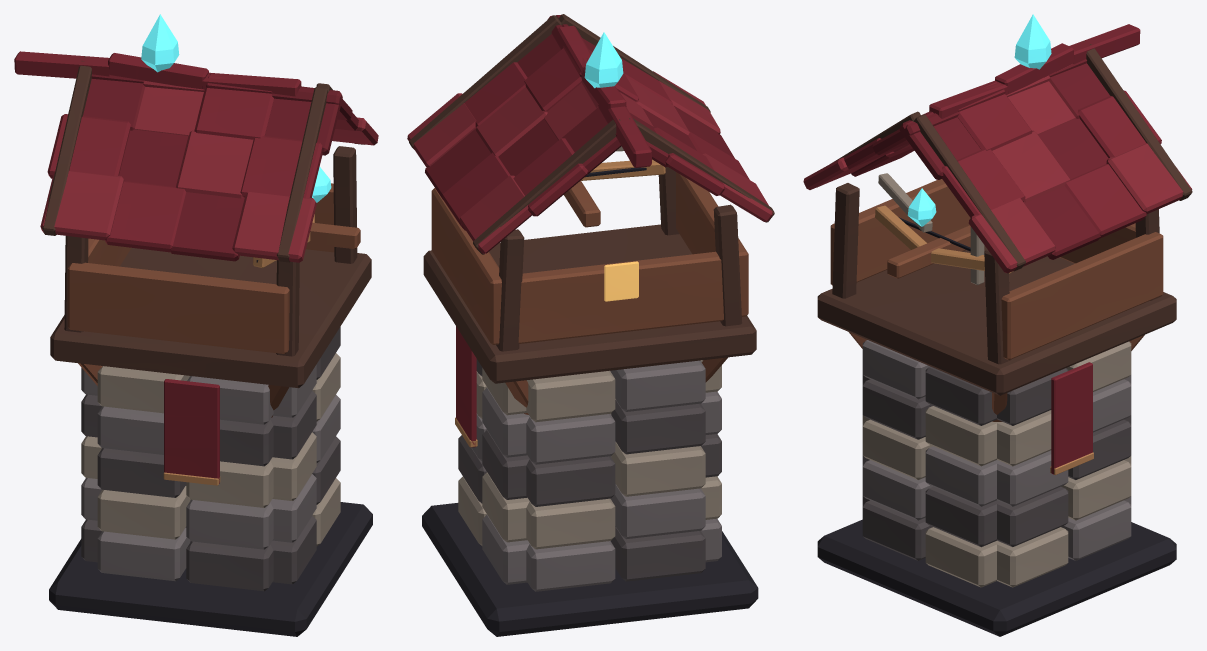
Rendered from tower_archer-BiobjcRF.glb.
The picture shows the model from 3 angles, left to right: view 1: azimuth 30°, elevation 25°; view 2: azimuth 150°, elevation 25°; view 3: azimuth 270°, elevation 25°; orthographic projection. The views are drawn at different scales.
Visible parts, largest first — view 1: tower_archer_l1_body, tower_archer_l2_body, tower_archer_l1_crystal; view 2: tower_archer_l1_body, tower_archer_l2_body, tower_archer_l1_crystal, tower_archer_l1_glow, tower_archer_l1_gold; view 3: tower_archer_l1_body, tower_archer_l2_body, tower_archer_l1_gold, tower_archer_l1_crystal, tower_archer_l3_gold, tower_archer_l3_crystal.
Boxes of the visible parts, box(x1,y1,x2,y2) form: tower_archer_l1_body: box(14, 51, 378, 636); tower_archer_l2_body: box(163, 379, 220, 485); tower_archer_l1_crystal: box(141, 14, 179, 72); tower_archer_l1_body: box(407, 14, 774, 636); tower_archer_l2_body: box(455, 326, 477, 447); tower_archer_l1_crystal: box(584, 32, 623, 88); tower_archer_l1_glow: box(604, 261, 638, 301); tower_archer_l1_gold: box(581, 159, 665, 180); tower_archer_l1_body: box(803, 24, 1192, 636); tower_archer_l2_body: box(1050, 362, 1093, 474); tower_archer_l1_gold: box(875, 205, 1013, 273); tower_archer_l1_crystal: box(1014, 14, 1051, 69); tower_archer_l3_gold: box(878, 173, 984, 285); tower_archer_l3_crystal: box(907, 188, 936, 226).
Bounding box in the file's own units: 0.9166 × 1.39 × 0.9166.
Materials: 4 (4 with a texture image).
